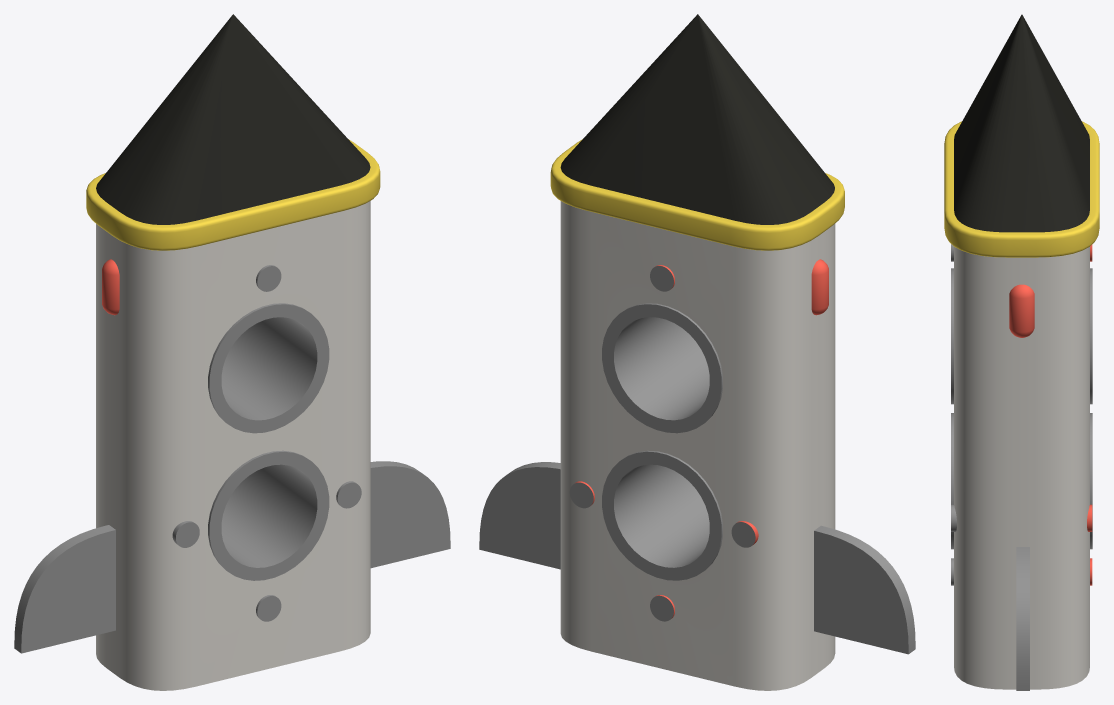
Rendered from 02 Rocket.FBX.
3 views of the same model, side by side, from view 1: azimuth 30°, elevation 25°; view 2: azimuth 150°, elevation 25°; view 3: azimuth 270°, elevation 25° (orthographic).
Visible parts, largest first — view 1: Box002; view 2: Box002; view 3: Box002.
Boxes of the visible parts, box(x1,y1,x2,y2) form: Box002: box(14, 14, 450, 690); Box002: box(479, 14, 915, 690); Box002: box(944, 14, 1099, 690).
Size of the model in its own units: 3571 by 5006 by 1140.
